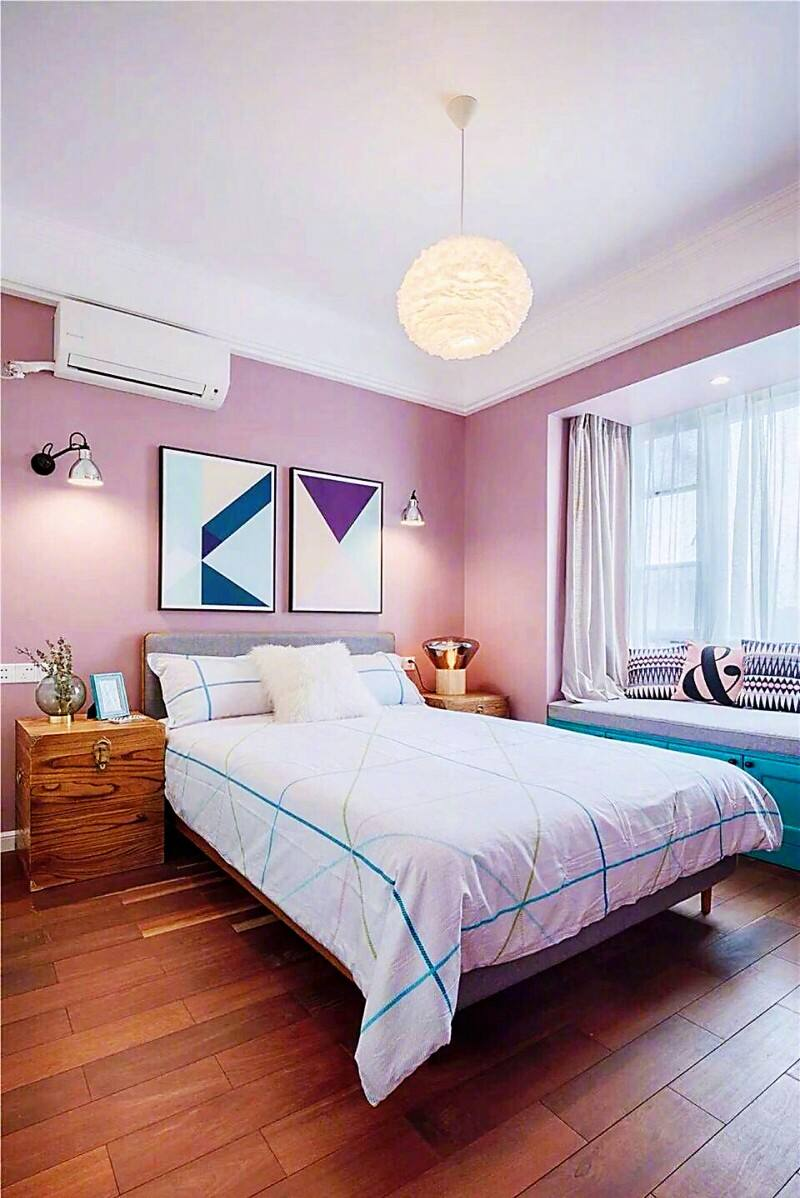床: (166, 704, 770, 1056)
枕头: (149, 641, 426, 729), (614, 640, 800, 708)
灯: (389, 222, 533, 373), (25, 422, 111, 491), (425, 635, 483, 698), (401, 486, 434, 536), (700, 374, 733, 395)
